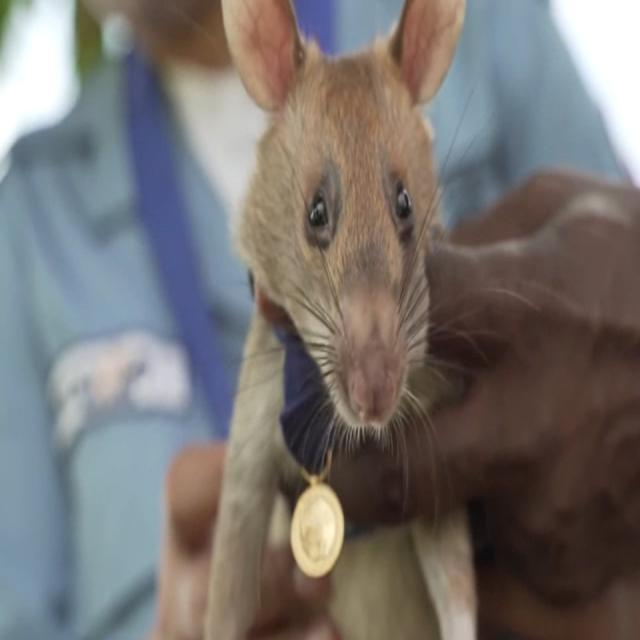rat: (205, 0, 465, 639)
